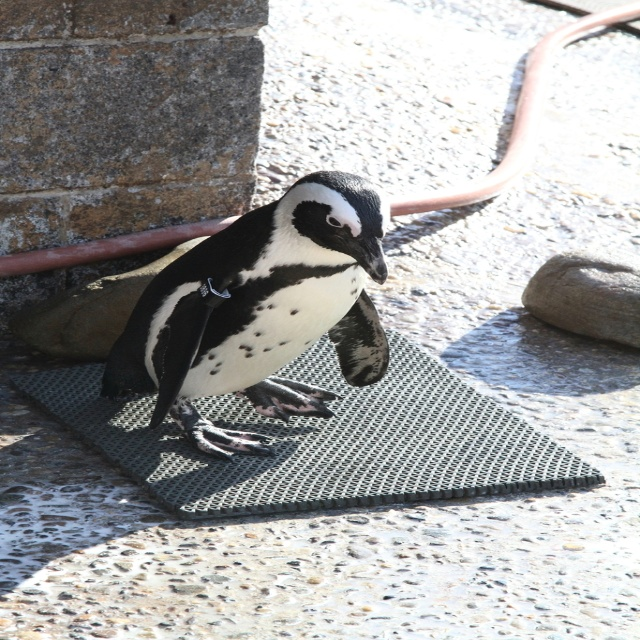Penguin: (103, 171, 389, 463)
